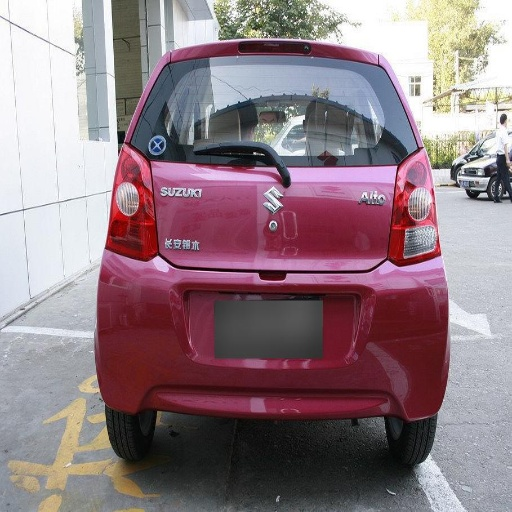back_bumper: (93, 253, 443, 410)
back_right_light: (393, 177, 439, 263)
trunk: (151, 145, 424, 293)
